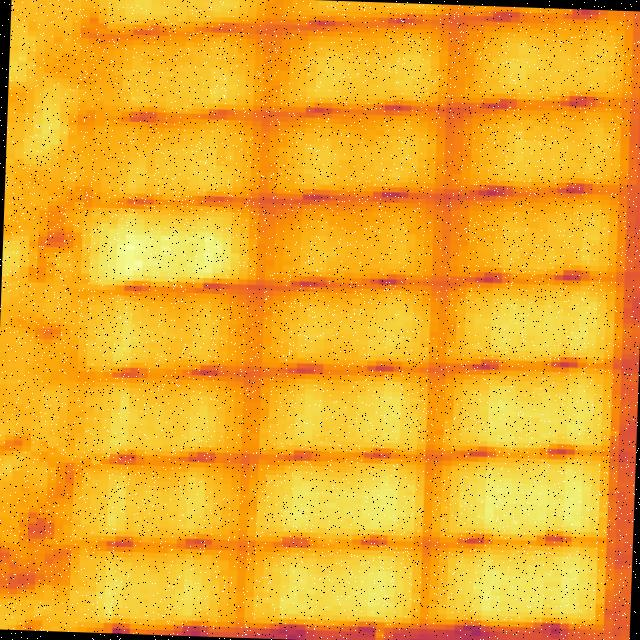Hotspot: (440, 455, 609, 532), (446, 547, 597, 624), (89, 217, 240, 284)
